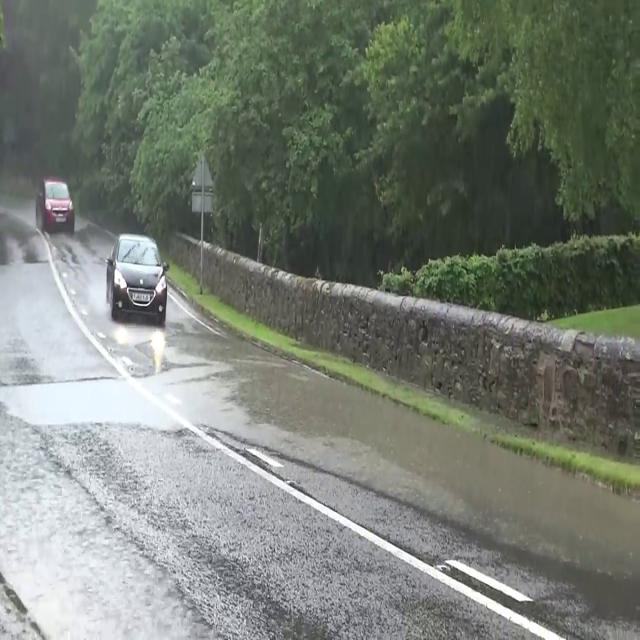license-plate-annotation: (126, 286, 155, 309)
